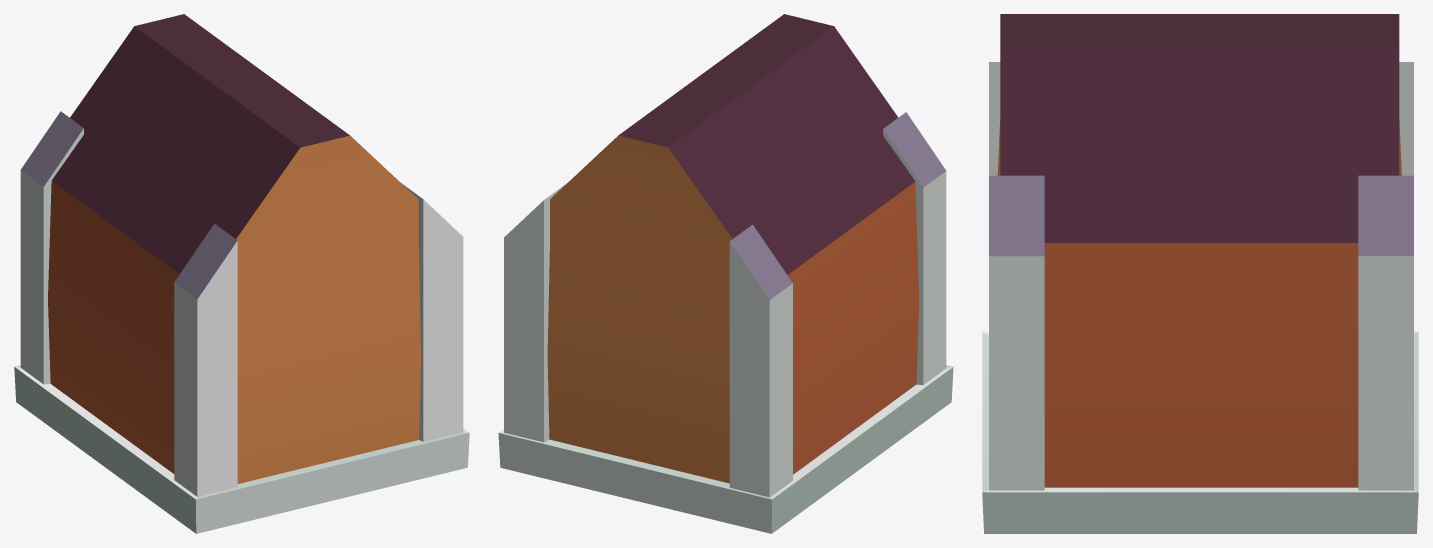
Rendered from House02_Orange_White.glb.
The picture shows the model from 3 angles, left to right: view 1: azimuth 30°, elevation 25°; view 2: azimuth 150°, elevation 25°; view 3: azimuth 270°, elevation 25°; orthographic projection. The views are drawn at different scales.
Parts seen in each view (by area): view 1: House02_Orange_White; view 2: House02_Orange_White; view 3: House02_Orange_White.
Part boxes in pixels (left/top/right/bottom): House02_Orange_White: left=14, top=14, right=469, bottom=533; House02_Orange_White: left=498, top=14, right=953, bottom=533; House02_Orange_White: left=982, top=14, right=1418, bottom=533.
Size of the model in its own units: 2.04 by 2.52 by 2.34.
1 material, 1 textured.
